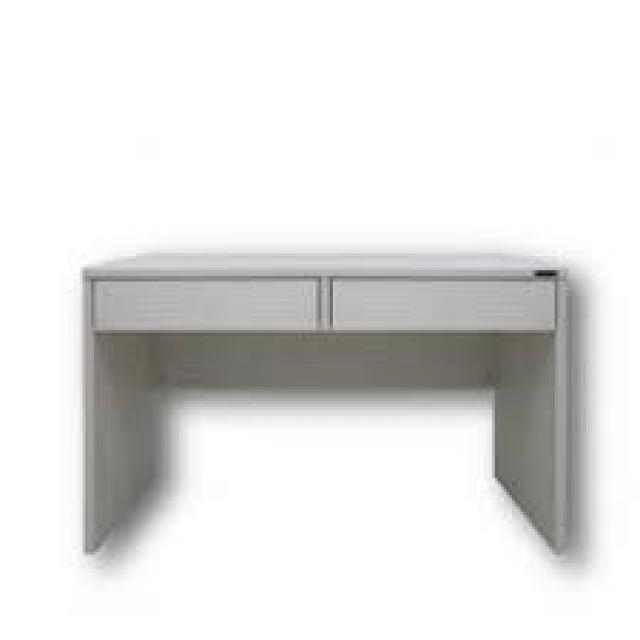table: (70, 186, 584, 579)
